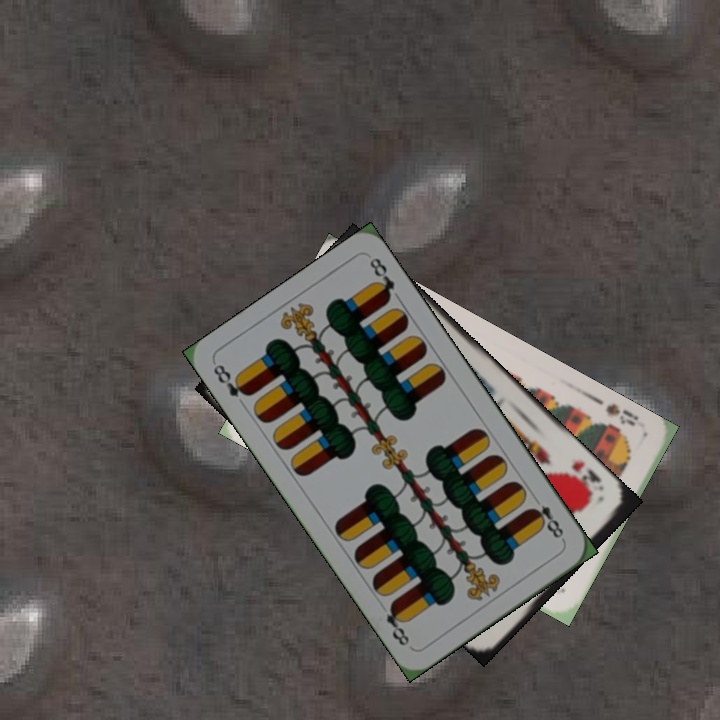E8: (526, 492, 567, 544), (209, 360, 253, 400)
HK: (562, 456, 607, 499)
S8: (601, 399, 642, 429)
